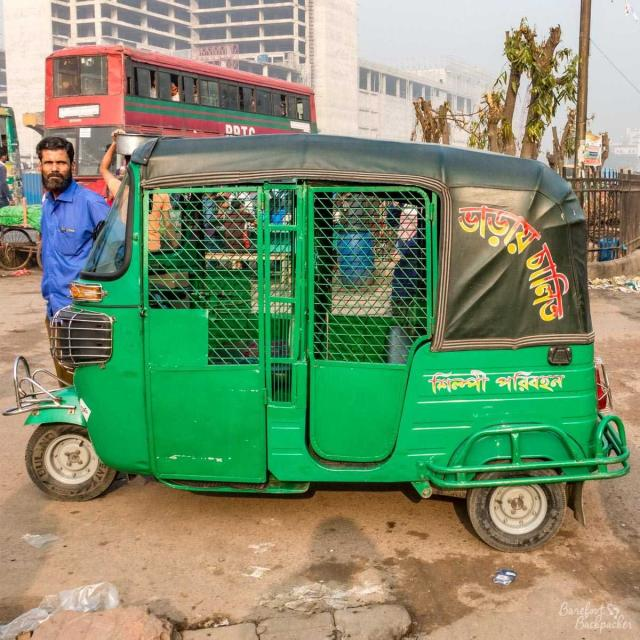CNG: (1, 97, 637, 541)
Double decker: (33, 27, 358, 281)
